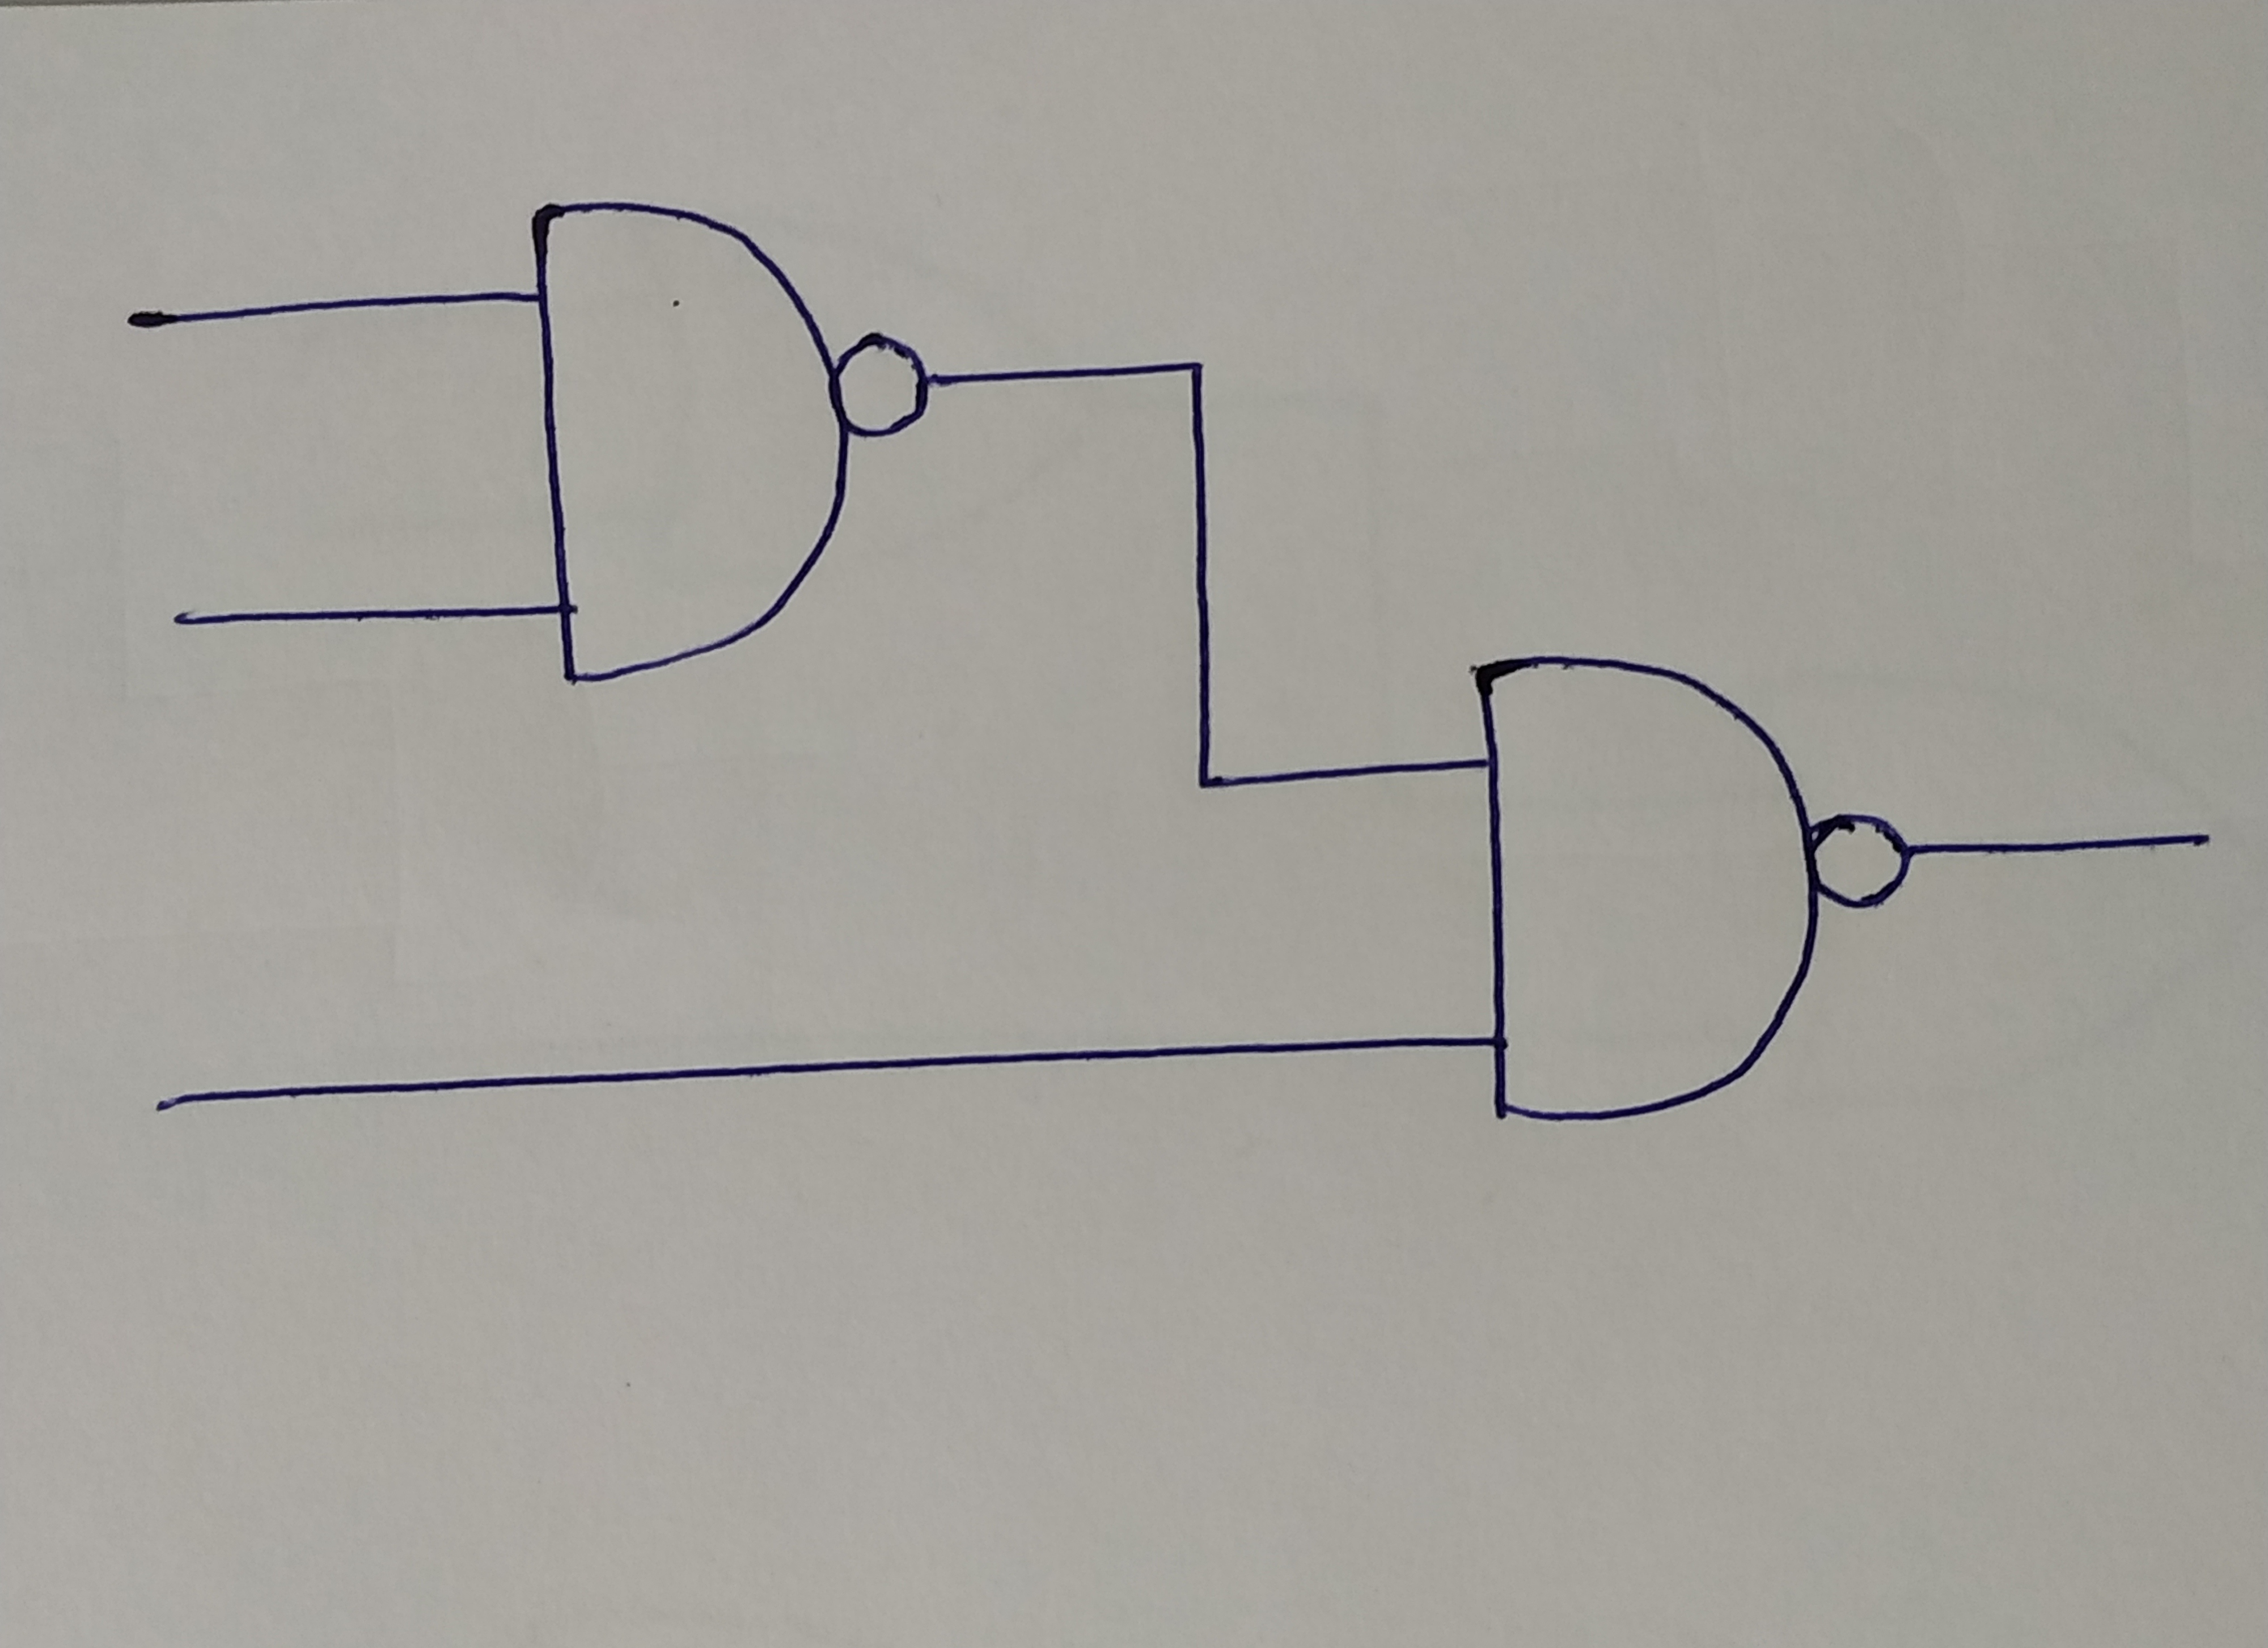and: (1477, 650, 1821, 1120), (523, 195, 843, 681)
not: (1819, 813, 1907, 907), (838, 340, 923, 431)
